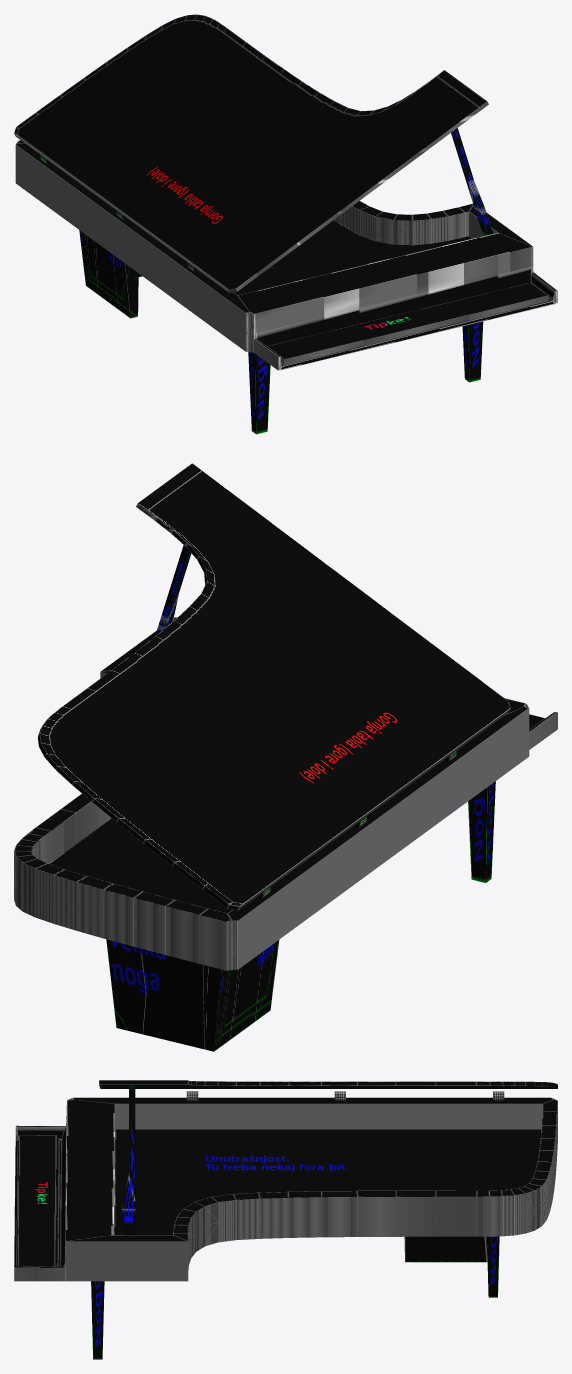
File: piano.FBX
The picture shows the model from 3 angles, top to bottom: view 1: azimuth 30°, elevation 25°; view 2: azimuth 150°, elevation 25°; view 3: azimuth 270°, elevation 25°; orthographic projection. The views are drawn at different scales.
Visible parts, largest first — view 1: Line001; view 2: Line001; view 3: Line001.
Boxes of the visible parts, left/top/right/bottom form: Line001: left=14, top=14, right=557, bottom=434; Line001: left=14, top=463, right=557, bottom=1051; Line001: left=14, top=1080, right=557, bottom=1359.
Bounding box in the file's own units: 135 × 215 × 124.
Materials: 1 (1 with a texture image).
